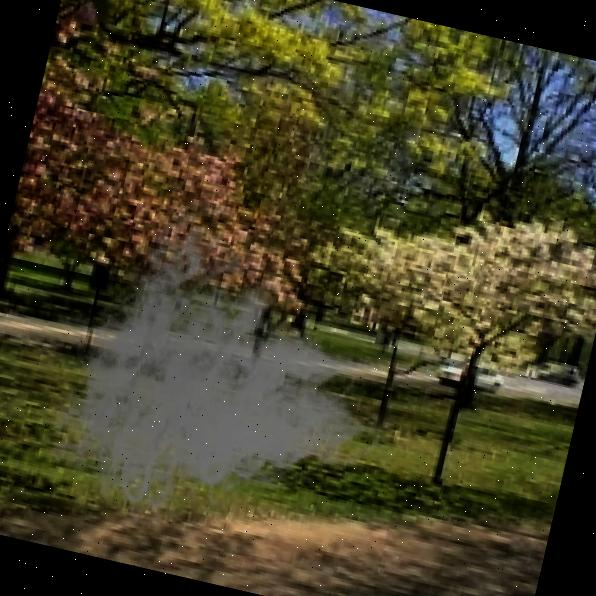smoke: (14, 167, 435, 589)
